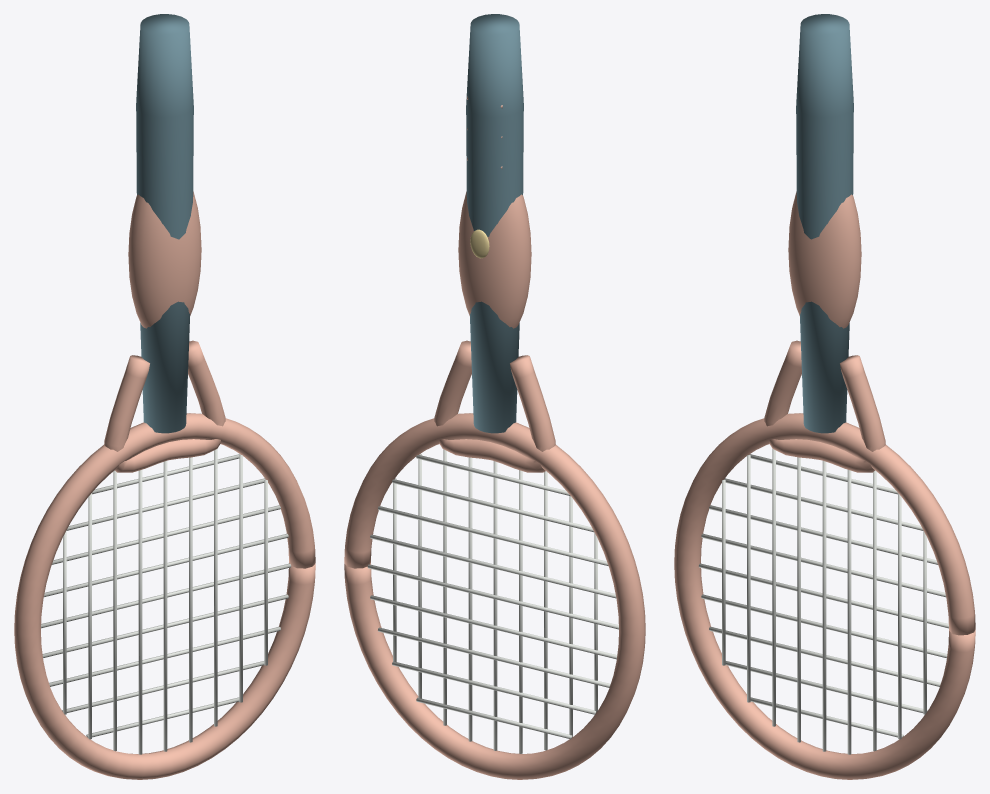
The model's file is racket.glb.
The picture shows the model from 3 angles, left to right: view 1: azimuth 30°, elevation 25°; view 2: azimuth 150°, elevation 25°; view 3: azimuth 330°, elevation 25°; orthographic projection.
Parts seen in each view (by area): view 1: racket; view 2: racket; view 3: racket.
Part boxes in pixels (x1,y1,x2,y2): racket: (14,14,315,779); racket: (344,14,645,779); racket: (674,14,975,779).
Size of the model in its own units: 0.308 by 0.742 by 0.0559.
